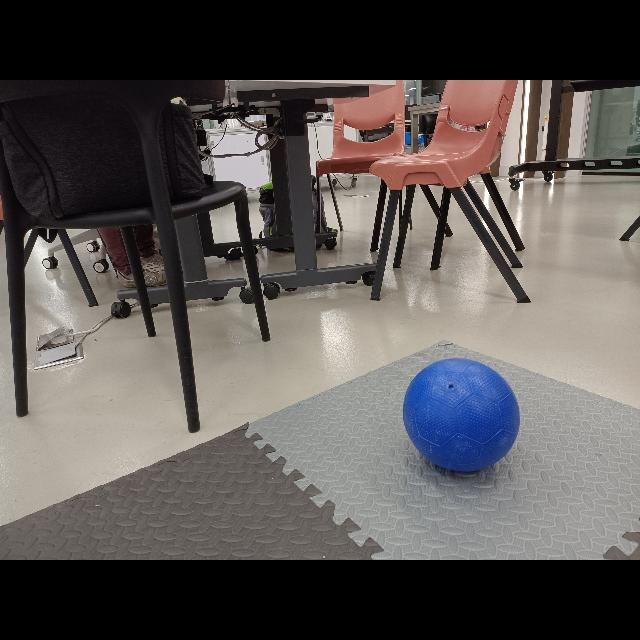B: (402, 357, 526, 478)
